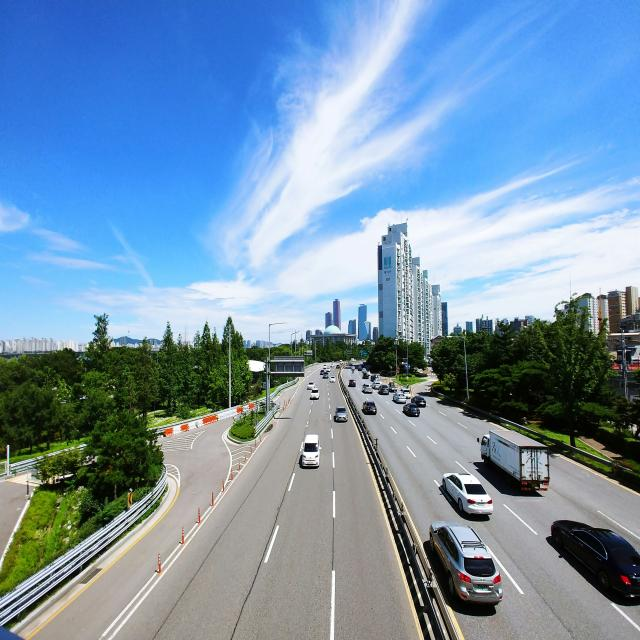Car: (550, 519, 640, 600), (428, 520, 503, 606), (442, 472, 493, 516), (402, 403, 420, 416), (362, 400, 377, 414), (334, 407, 347, 422), (411, 395, 426, 406), (362, 383, 372, 393), (310, 389, 319, 399), (348, 379, 356, 387), (328, 376, 336, 383)
MiniBus: (300, 434, 321, 468)
Truck: (478, 429, 550, 492)
